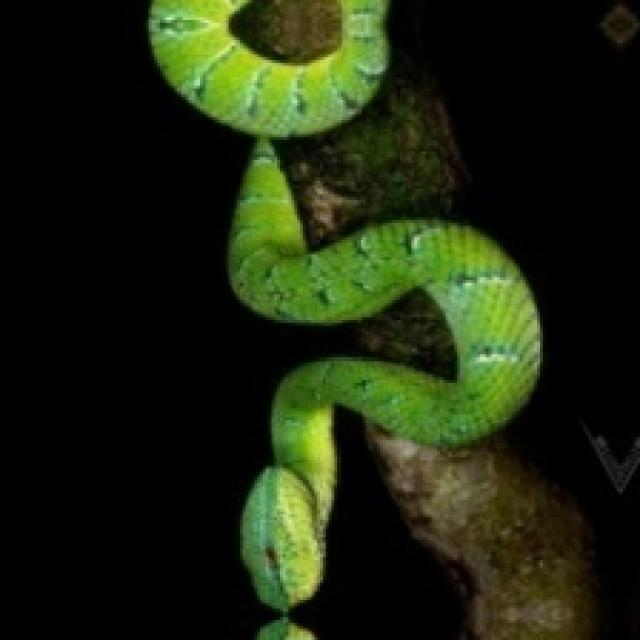north ph temple pitviper: (149, 0, 537, 637)
